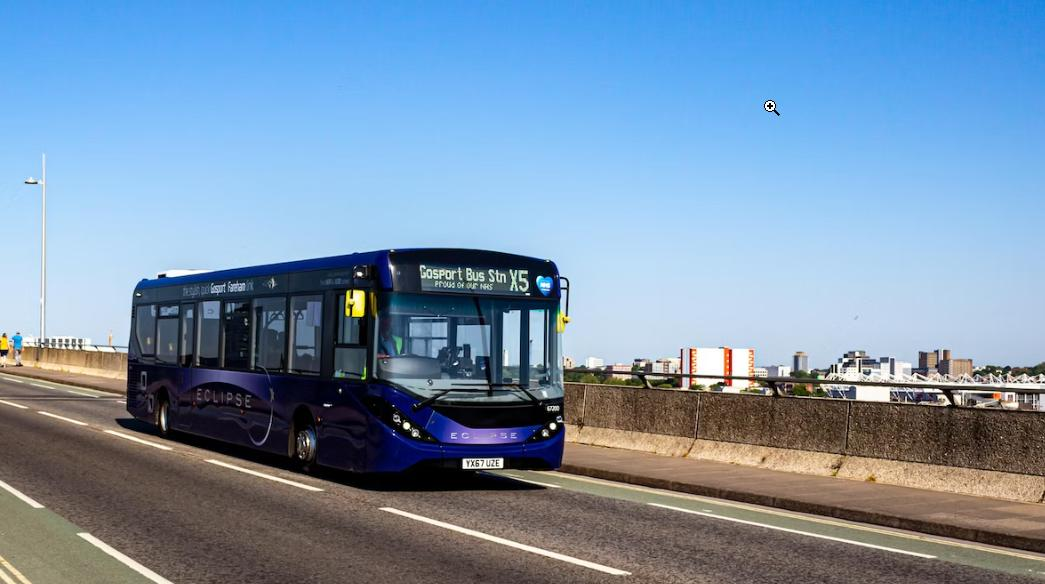vehicle: (127, 247, 569, 475)
